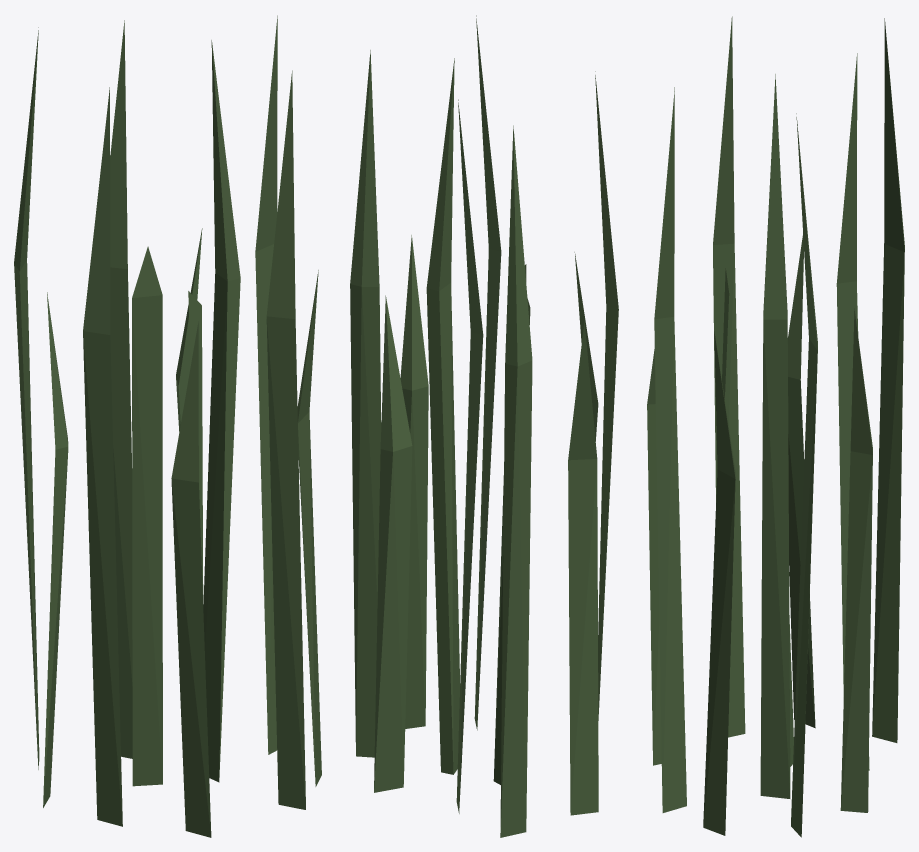
Rendered from Grass.lod1.glb.
The picture shows the model from 3 angles, left to right: view 1: azimuth 30°, elevation 25°; view 2: azimuth 150°, elevation 25°; view 3: azimuth 270°, elevation 25°; orthographic projection. The views are drawn at different scales.
Visible parts, largest first — view 1: Grass; view 2: Grass; view 3: Grass.
Part boxes in pixels (x1,y1,x2,y2): Grass: (14,15,321,837); Grass: (350,15,618,837); Grass: (647,16,904,837).
Bounding box in the file's own units: 0.3558 × 1.01 × 0.3272.
